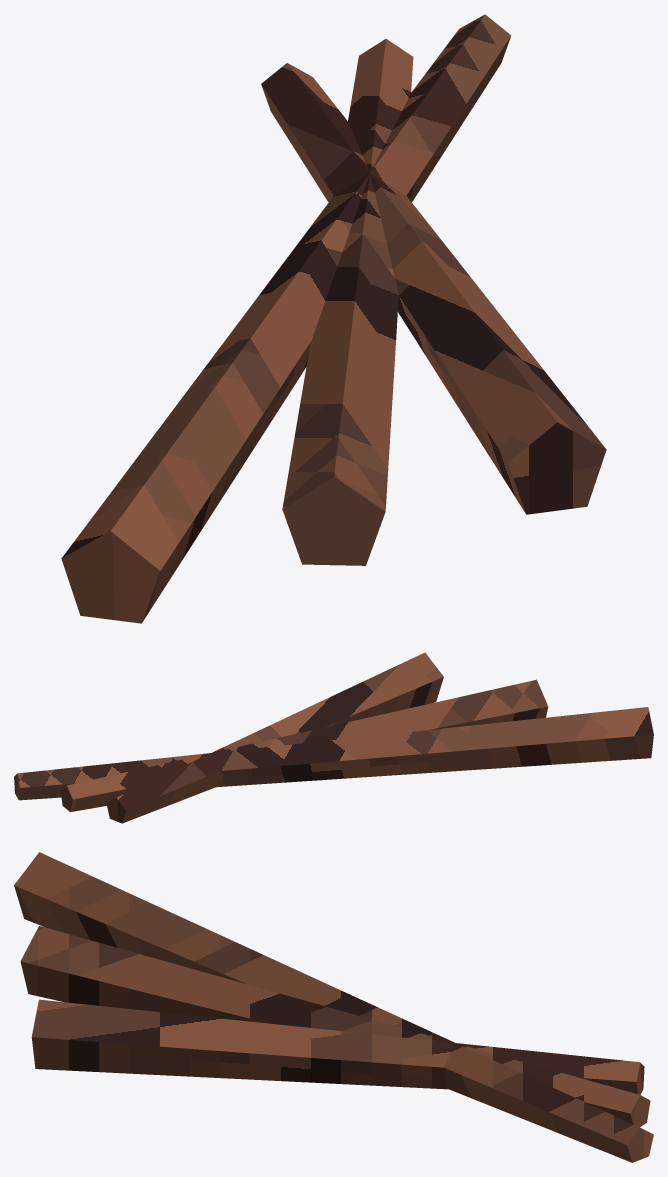
Rendered from enfeite_raiz_chao.fbx.
3 views of the same model, one above another, from view 1: azimuth 30°, elevation 25°; view 2: azimuth 150°, elevation 25°; view 3: azimuth 270°, elevation 25° (orthographic). The views are drawn at different scales.
Visible parts, largest first — view 1: pedreira_enfeite_raiz_chao; view 2: pedreira_enfeite_raiz_chao; view 3: pedreira_enfeite_raiz_chao.
Part boxes in pixels (box(x1,y1,x2,y2)): pedreira_enfeite_raiz_chao: box(61, 14, 606, 623); pedreira_enfeite_raiz_chao: box(14, 652, 653, 823); pedreira_enfeite_raiz_chao: box(14, 852, 653, 1162).
Size of the model in its own units: 34.89 by 3.44 by 33.01.
1 material, 1 textured.
